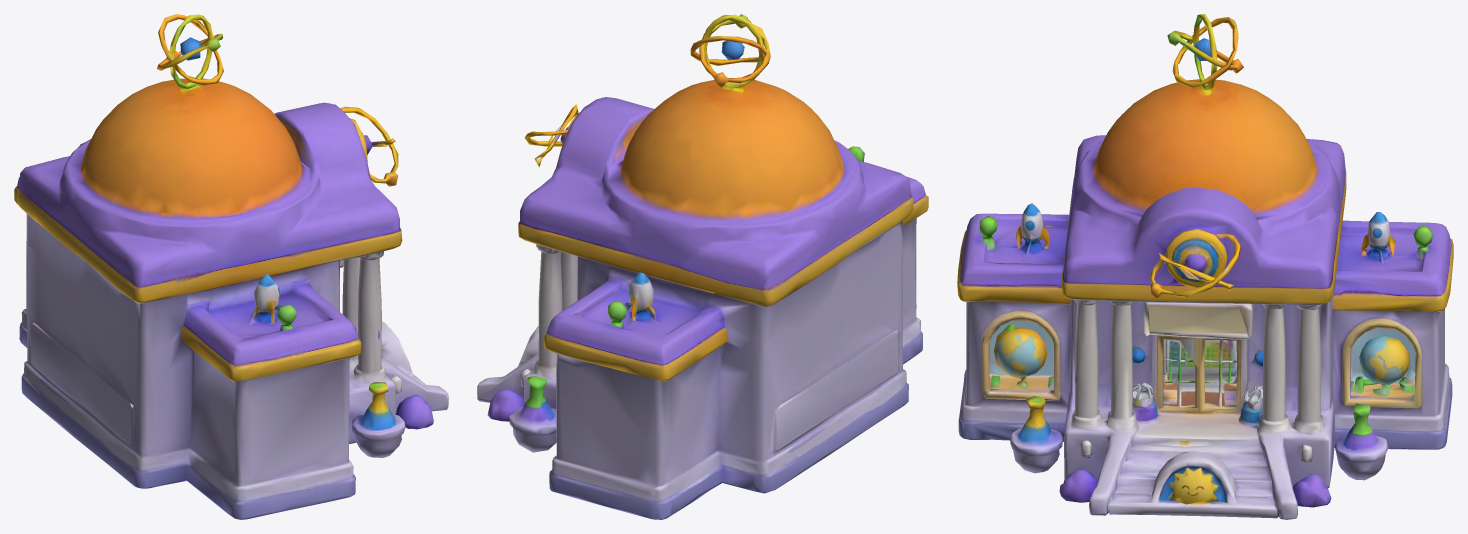
File: museum.glb
3 renders of one model, left to right at view 1: azimuth 30°, elevation 25°; view 2: azimuth 150°, elevation 25°; view 3: azimuth 270°, elevation 25°, orthographic.
Visible parts, largest first — view 1: tripo_node_a4f717a8-baf3-42a3-bee7-e2f1b51d5570; view 2: tripo_node_a4f717a8-baf3-42a3-bee7-e2f1b51d5570; view 3: tripo_node_a4f717a8-baf3-42a3-bee7-e2f1b51d5570.
Boxes of the visible parts, x1,y1,x2,y2 form: tripo_node_a4f717a8-baf3-42a3-bee7-e2f1b51d5570: (14, 14, 448, 519); tripo_node_a4f717a8-baf3-42a3-bee7-e2f1b51d5570: (477, 14, 928, 519); tripo_node_a4f717a8-baf3-42a3-bee7-e2f1b51d5570: (957, 14, 1453, 519).
Size of the model in its own units: 0.3409 by 0.4 by 0.446.
1 material, 1 textured.
